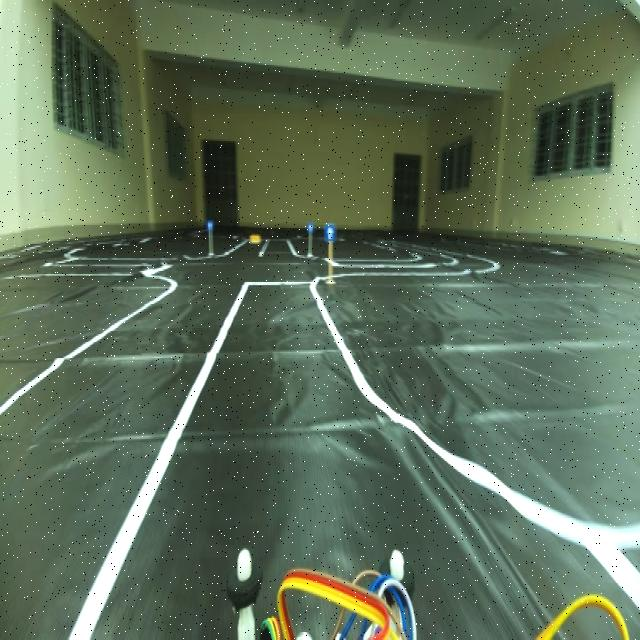onewayroad: (324, 218, 337, 240), (306, 220, 314, 235), (205, 216, 212, 229)
roadblock: (248, 230, 261, 245)
